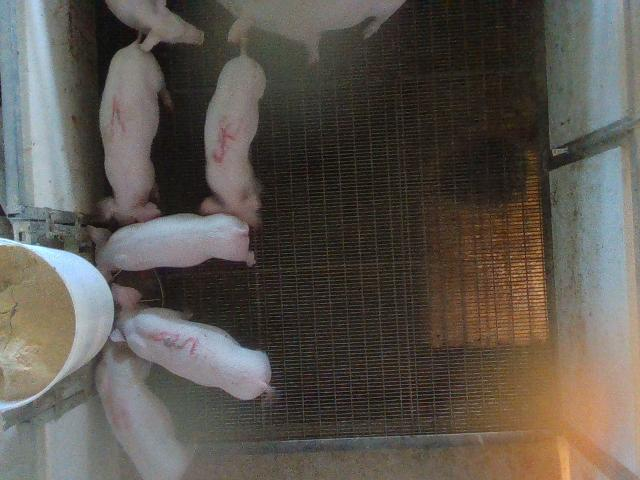pig-1: (99, 41, 164, 225)
pig-3: (110, 284, 271, 400)
pig-4: (96, 340, 192, 479)
pig-5: (200, 46, 266, 227)
